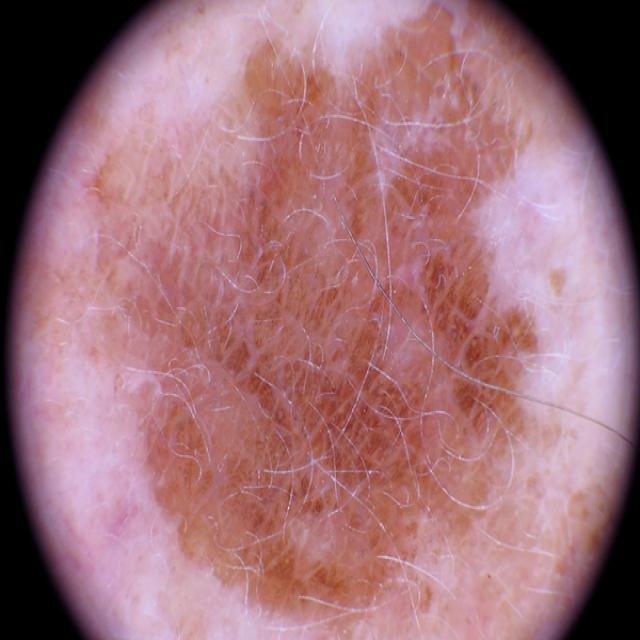Skin-Cancer Pigmented benign keratosis: (22, 15, 624, 640)
